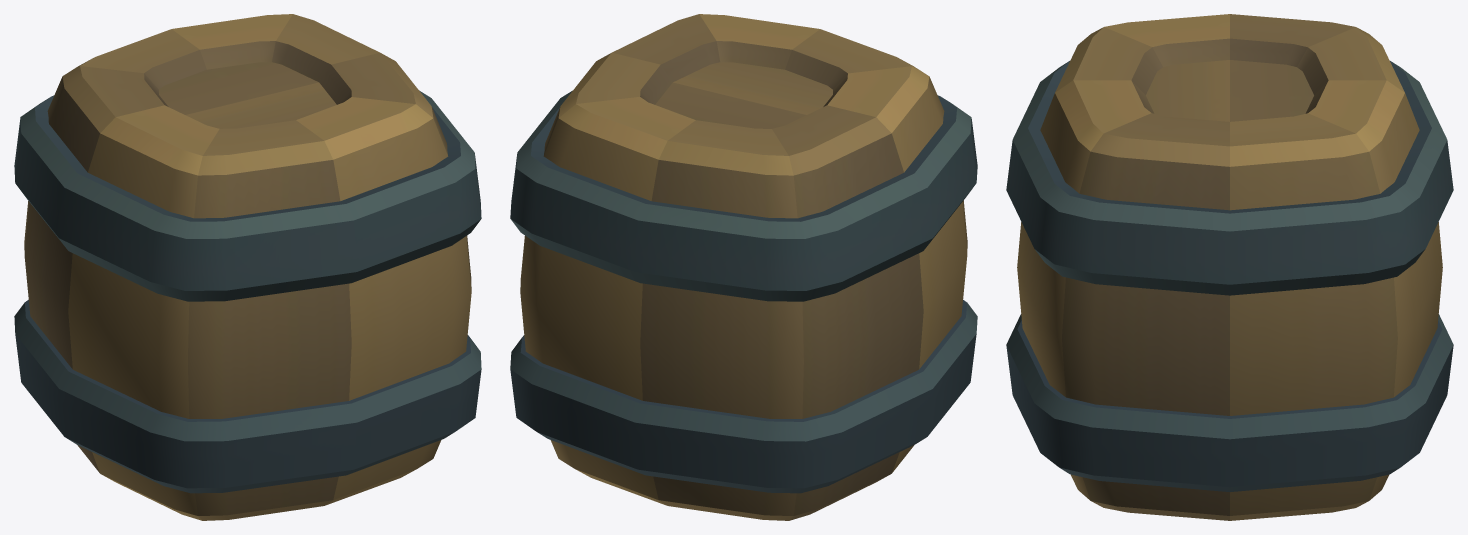
File: barrel_2.fbx
3 renders of one model, left to right at view 1: azimuth 30°, elevation 25°; view 2: azimuth 150°, elevation 25°; view 3: azimuth 270°, elevation 25°, orthographic. The views are drawn at different scales.
Parts seen in each view (by area): view 1: barrel_2; view 2: barrel_2; view 3: barrel_2.
Boxes of the visible parts, x1,y1,x2,y2 form: barrel_2: [14, 14, 481, 520]; barrel_2: [510, 14, 977, 520]; barrel_2: [1006, 14, 1453, 520].
Bounding box in the file's own units: 108 × 100 × 108.
